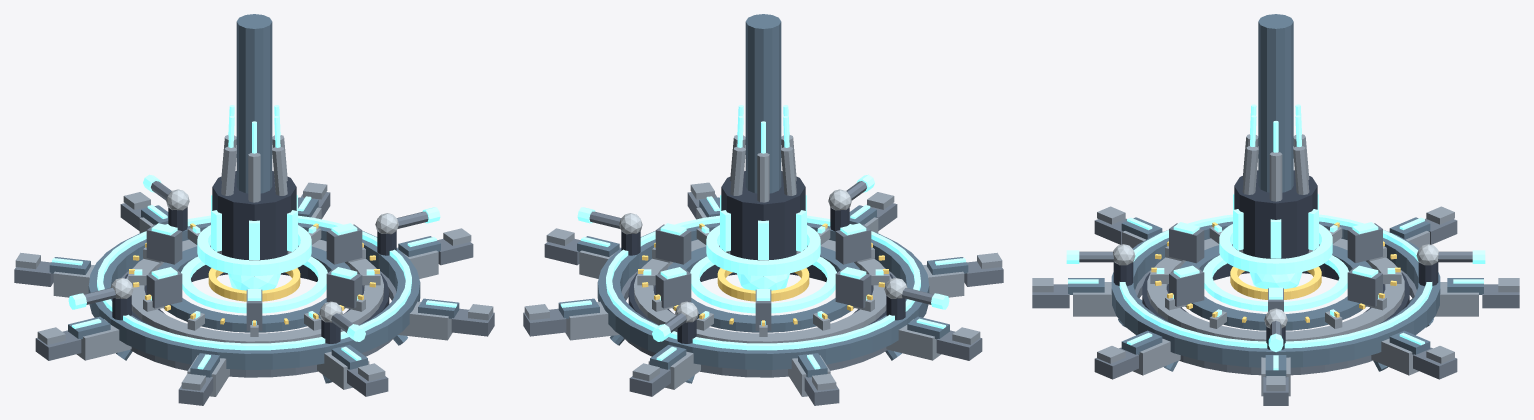
File: relay_2_neutral.glb
3 views of the same model, side by side, from view 1: azimuth 30°, elevation 25°; view 2: azimuth 150°, elevation 25°; view 3: azimuth 270°, elevation 25° (orthographic).
Parts seen in each view (by area): view 1: RLY_2, RLY_1, RLY_3, RLY_4, RLY_0, RLY_5, RLY_6; view 2: RLY_2, RLY_1, RLY_3, RLY_4, RLY_0, RLY_5, RLY_6; view 3: RLY_2, RLY_1, RLY_3, RLY_4, RLY_0, RLY_5, RLY_6.
Part boxes in pixels (bbox=[...]): RLY_2: bbox=[49, 14, 459, 383]; RLY_1: bbox=[15, 135, 493, 396]; RLY_3: bbox=[52, 105, 456, 369]; RLY_4: bbox=[14, 181, 494, 405]; RLY_0: bbox=[112, 171, 396, 343]; RLY_5: bbox=[129, 223, 379, 326]; RLY_6: bbox=[110, 189, 398, 322]; RLY_2: bbox=[558, 14, 968, 383]; RLY_1: bbox=[524, 135, 1002, 396]; RLY_3: bbox=[561, 105, 965, 369]; RLY_4: bbox=[523, 181, 1003, 405]; RLY_0: bbox=[621, 171, 905, 343]; RLY_5: bbox=[638, 223, 888, 326]; RLY_6: bbox=[619, 189, 907, 322]; RLY_2: bbox=[1068, 14, 1483, 377]; RLY_1: bbox=[1032, 134, 1519, 396]; RLY_3: bbox=[1066, 104, 1485, 370]; RLY_4: bbox=[1032, 218, 1519, 405]; RLY_0: bbox=[1113, 170, 1438, 349]; RLY_5: bbox=[1151, 222, 1400, 322]; RLY_6: bbox=[1113, 244, 1438, 328].
Size of the model in its own units: 9.92 by 6.86 by 9.92.
